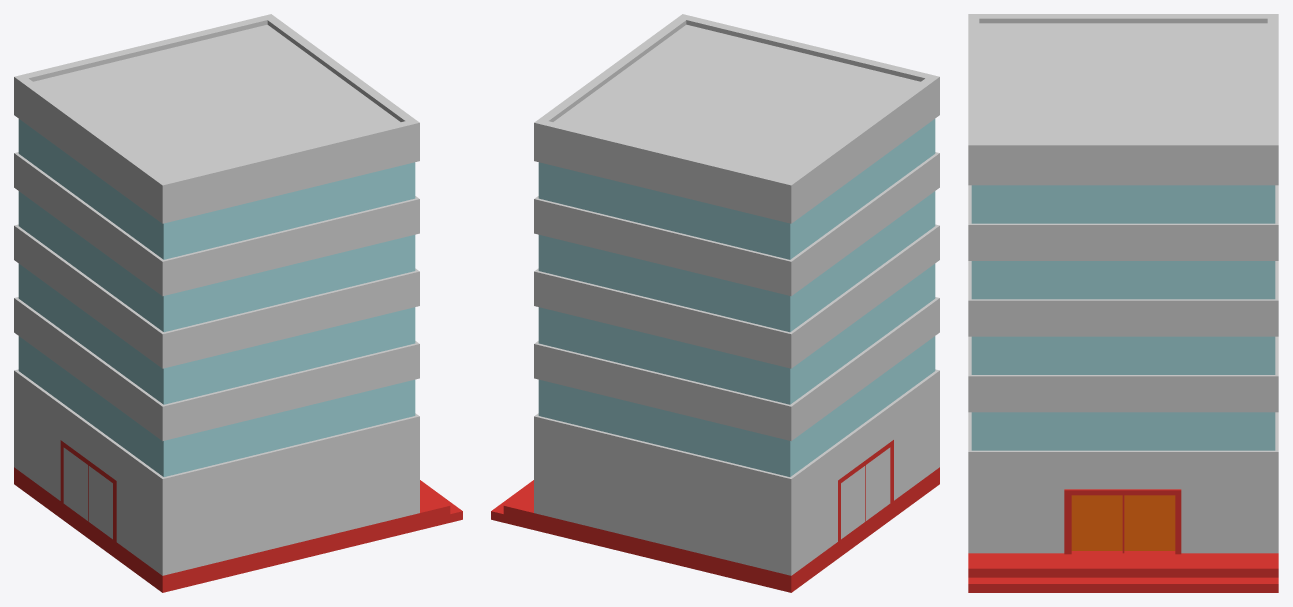
The model's file is Building 9.fbx.
3 views of the same model, side by side, from view 1: azimuth 30°, elevation 25°; view 2: azimuth 150°, elevation 25°; view 3: azimuth 270°, elevation 25° (orthographic). The views are drawn at different scales.
Parts seen in each view (by area): view 1: Building 83; view 2: Building 83; view 3: Building 83.
Part boxes in pixels (bbox=[...]): Building 83: bbox=[14, 14, 462, 592]; Building 83: bbox=[491, 14, 939, 592]; Building 83: bbox=[968, 14, 1278, 592].
Bounding box in the file's own units: 1321 × 1713 × 1132.
